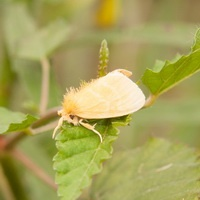insect: (62, 69, 144, 124)
